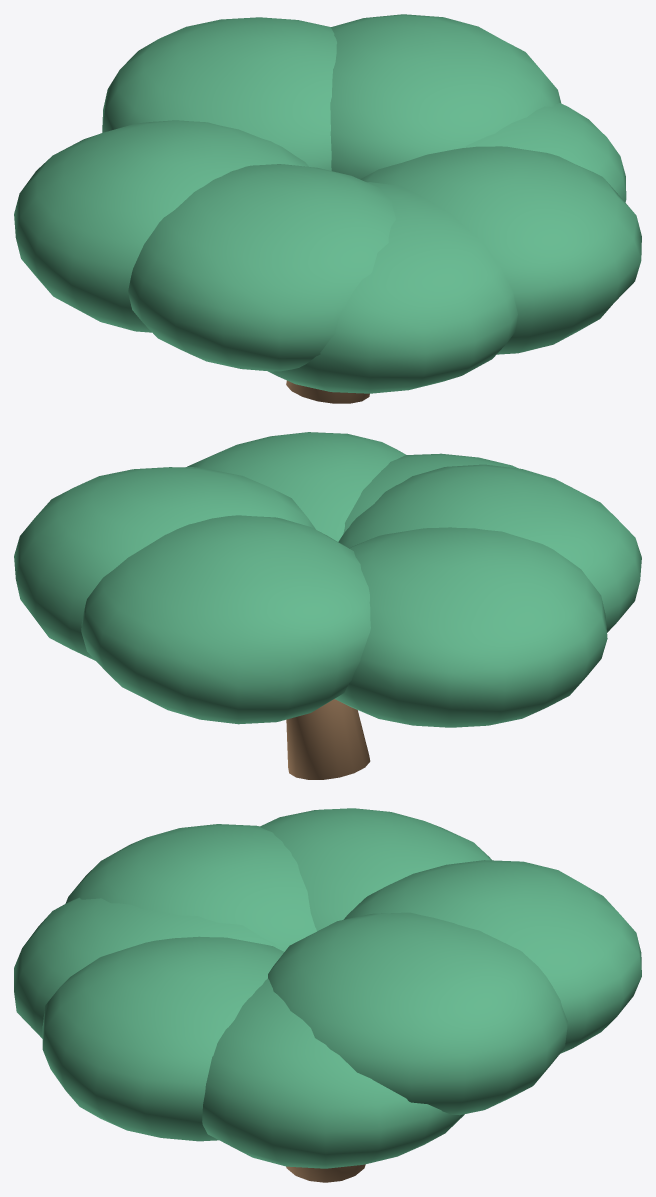
The model's file is sea_grape.glb.
The picture shows the model from 3 angles, top to bottom: view 1: azimuth 30°, elevation 25°; view 2: azimuth 150°, elevation 25°; view 3: azimuth 270°, elevation 25°; orthographic projection. The views are drawn at different scales.
Visible parts, largest first — view 1: sea-grape; view 2: sea-grape; view 3: sea-grape.
Part boxes in pixels (x1,y1,x2,y2): sea-grape: [14, 14, 641, 403]; sea-grape: [14, 432, 641, 779]; sea-grape: [14, 808, 641, 1182].
Size of the model in its own units: 3.01 by 1.5 by 2.98.
